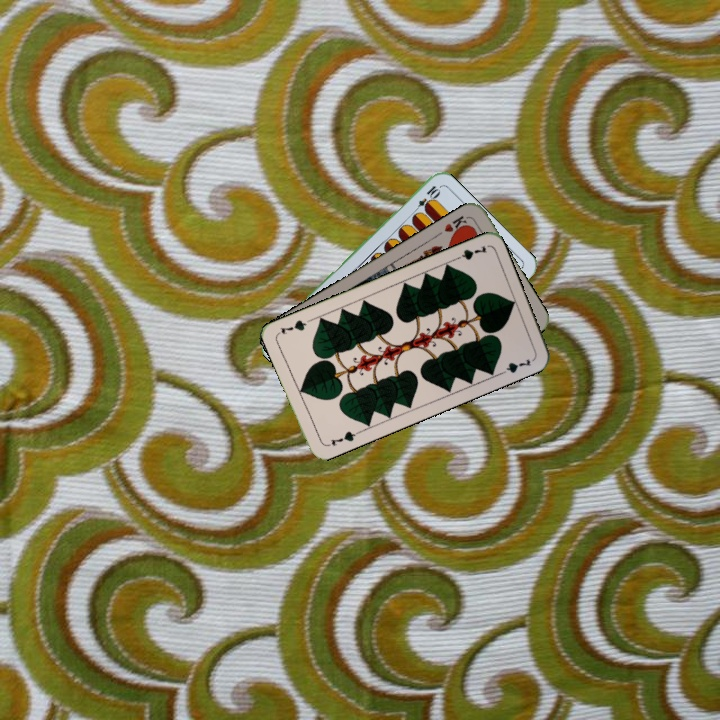E10: (409, 181, 442, 217)
G7: (449, 241, 489, 263), (322, 427, 361, 449)
HK: (440, 211, 472, 238)
